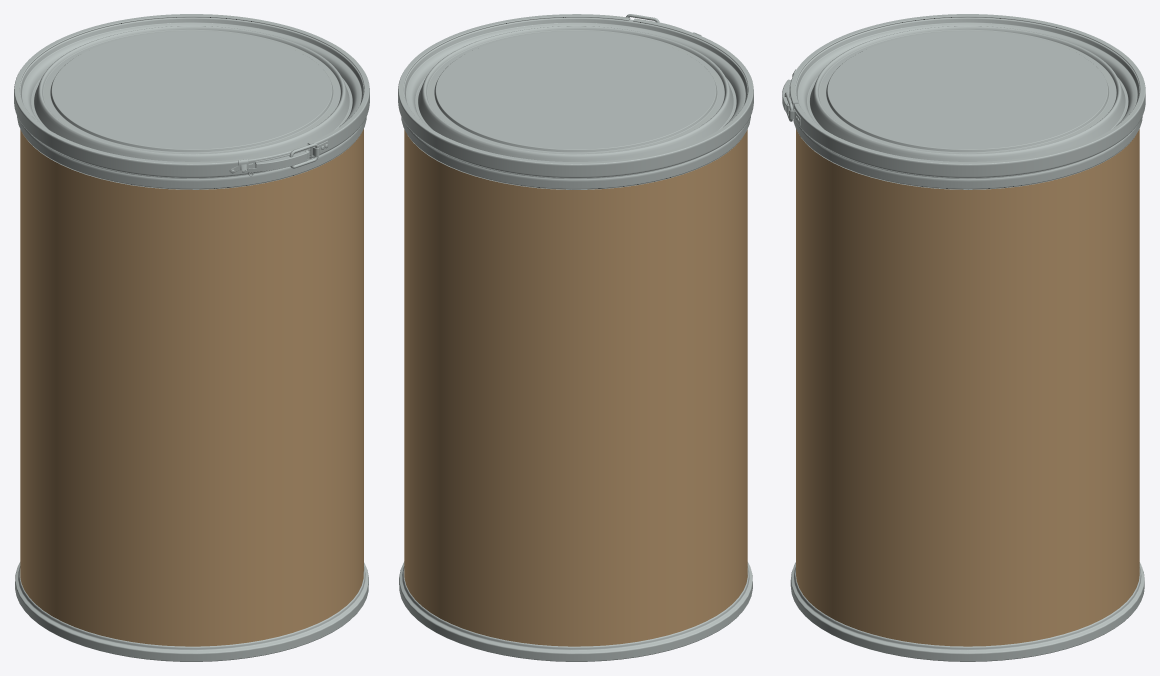
The model's file is drum_fiber_a04.glb.
3 views of the same model, side by side, from view 1: azimuth 30°, elevation 25°; view 2: azimuth 150°, elevation 25°; view 3: azimuth 270°, elevation 25° (orthographic).
Size of the model in its own units: 0.4232 by 0.6572 by 0.4322.
